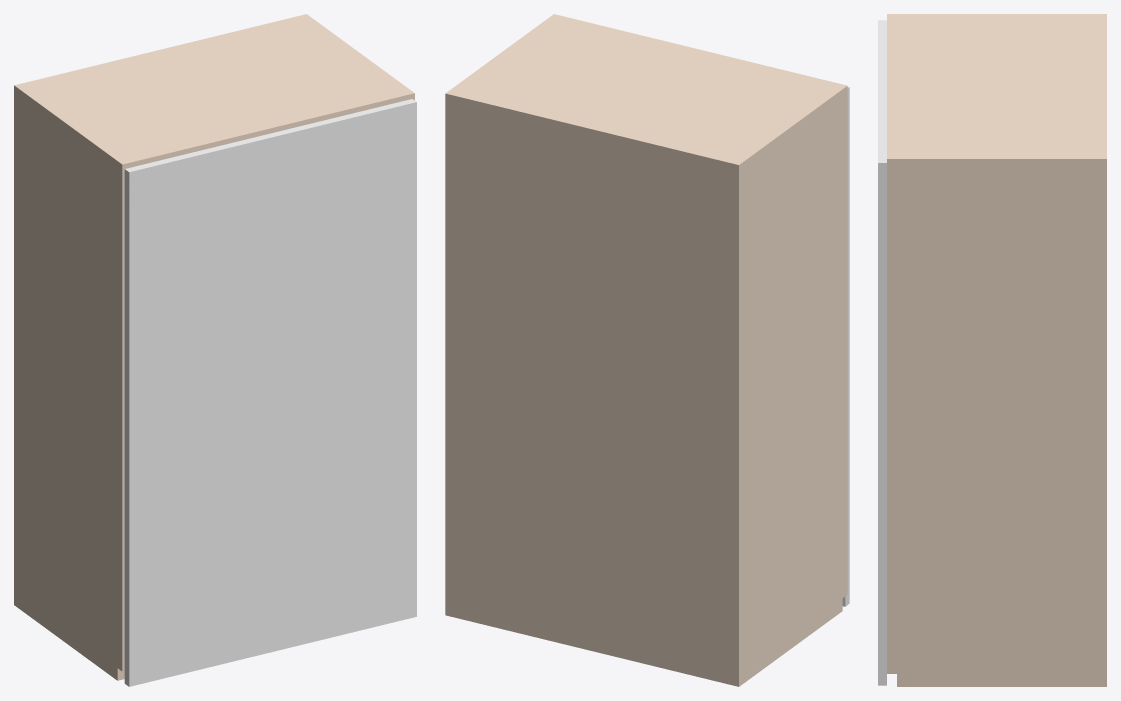
Rendered from KTCH_ELIX_Cabinet_60_40_100.FBX.
3 renders of one model, left to right at view 1: azimuth 30°, elevation 25°; view 2: azimuth 150°, elevation 25°; view 3: azimuth 270°, elevation 25°, orthographic.
Parts seen in each view (by area): view 1: KTCH_ELIX_Cabinet_60_40_100; view 2: KTCH_ELIX_Cabinet_60_40_100; view 3: KTCH_ELIX_Cabinet_60_40_100.
Part boxes in pixels (x1,y1,x2,y2): KTCH_ELIX_Cabinet_60_40_100: [14, 14, 416, 686]; KTCH_ELIX_Cabinet_60_40_100: [445, 14, 849, 686]; KTCH_ELIX_Cabinet_60_40_100: [878, 14, 1106, 686].
Size of the model in its own units: 60 by 40 by 102.
